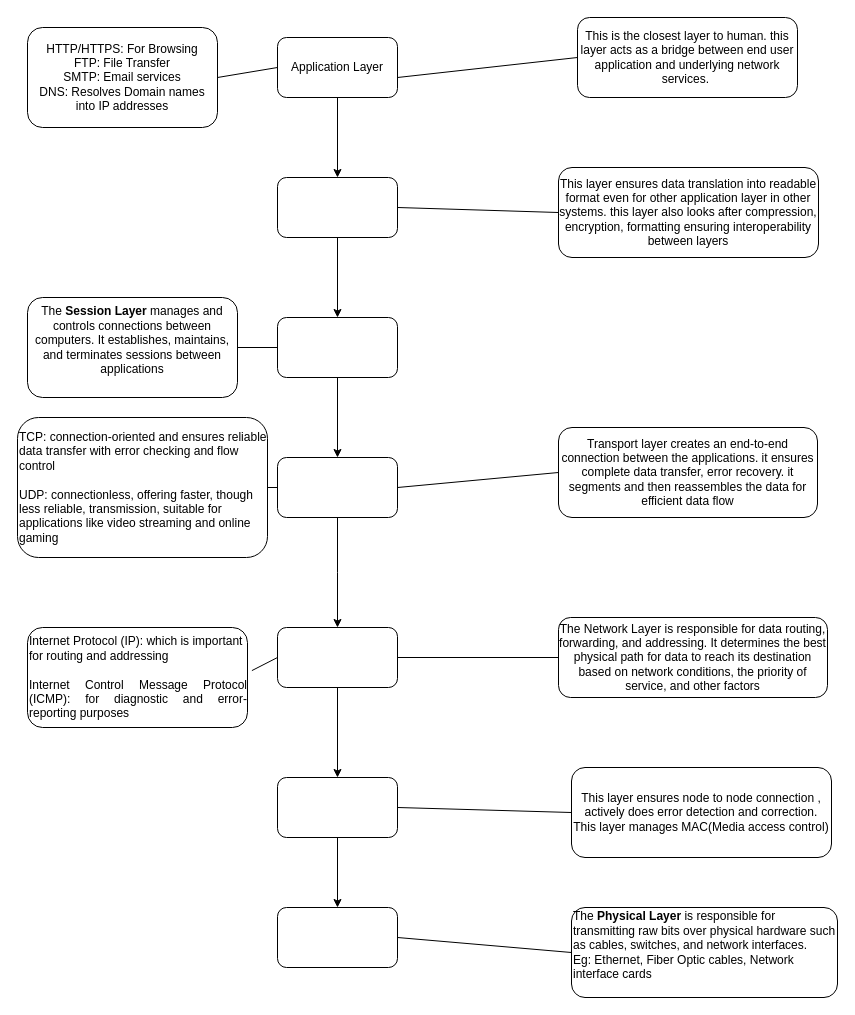
Some shapes in this 855 by 1015 pixel diagram are drawn without their labels. The shapes that lost their labels are listed below. From the top down, each one's centre as x and y in pixels, then its label:
At [337,207]: "Presentation Layer".
At [337,347]: "Session Layer".
At [337,487]: "Transport Layer".
At [337,657]: "Network Layer".
At [337,807]: "Data Link Layer".
At [337,937]: "Physical Layer".
